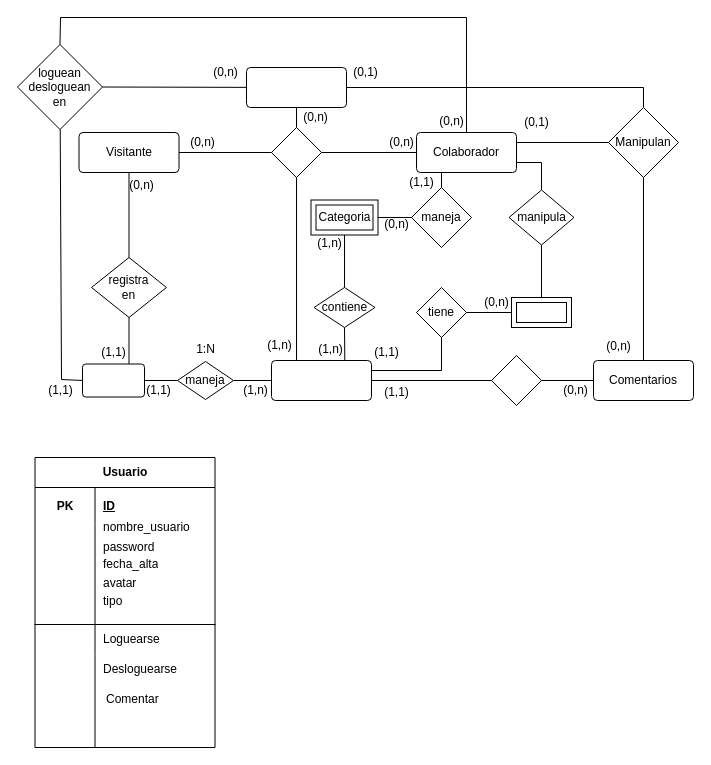
Image size: 711x765. Some labels were removed from this diagram. The shapes that lost their labels are listed below. From the top down, each one's centre as x and y in pixels, then its label:
point 296,87: Miembro
point 296,152: leen
point 541,312: Fotos
point 113,380: Sistema
point 321,380: Articulos
point 516,380: posee
